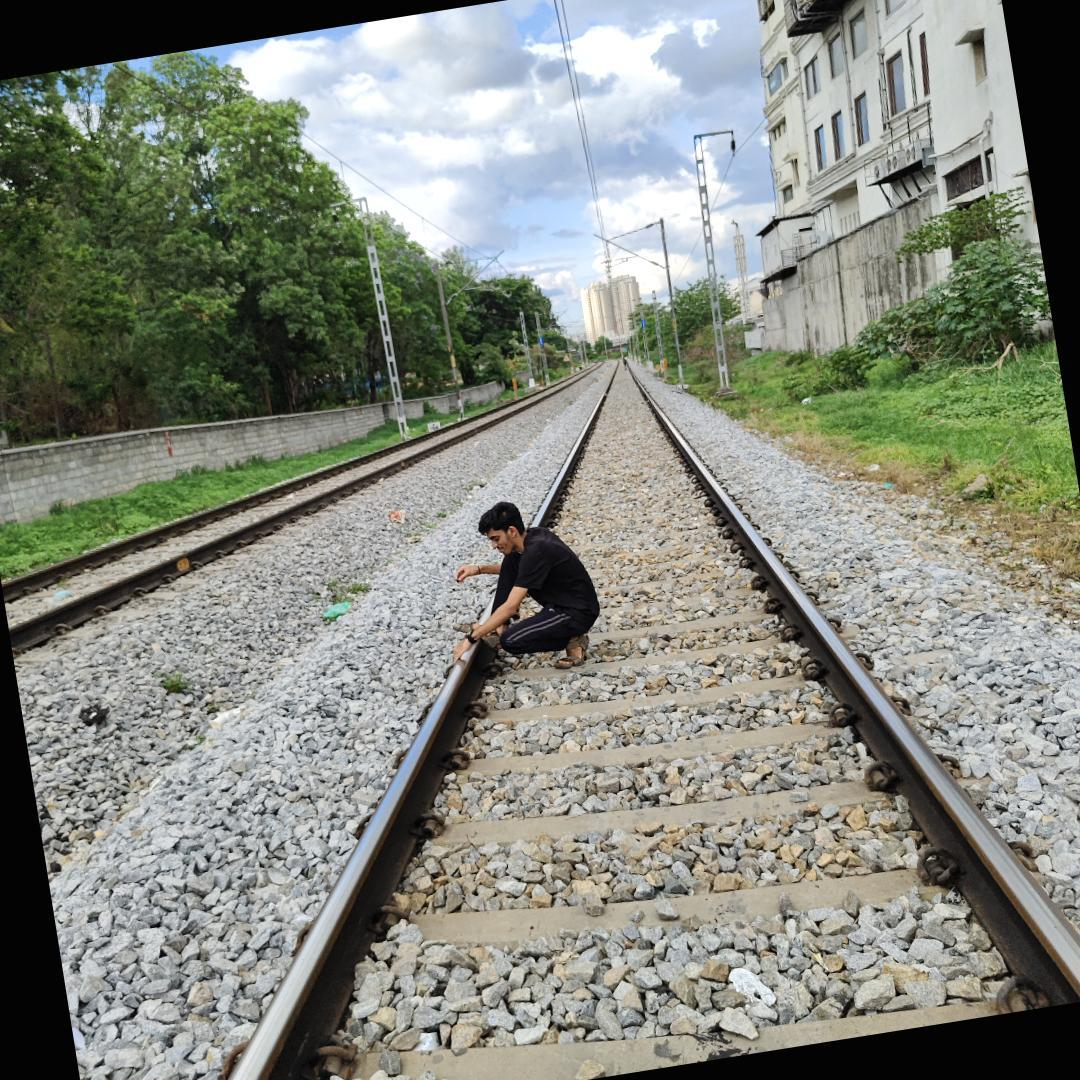sitting: (422, 483, 638, 685)
